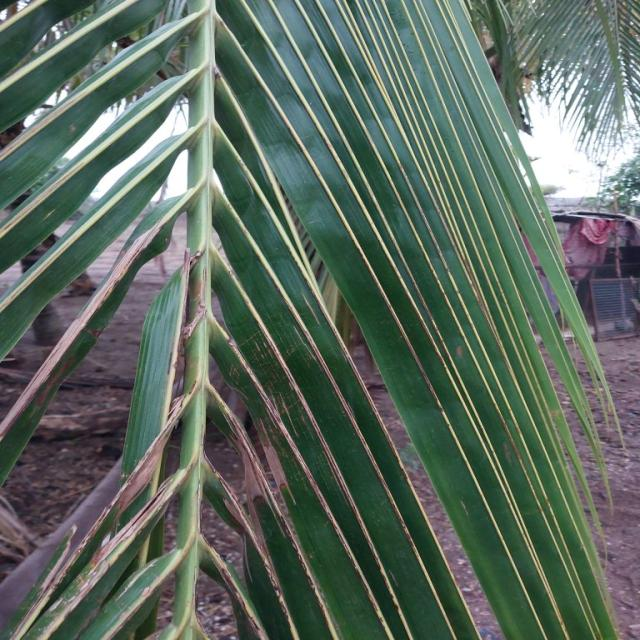gray leaf spot: (95, 205, 281, 618)
